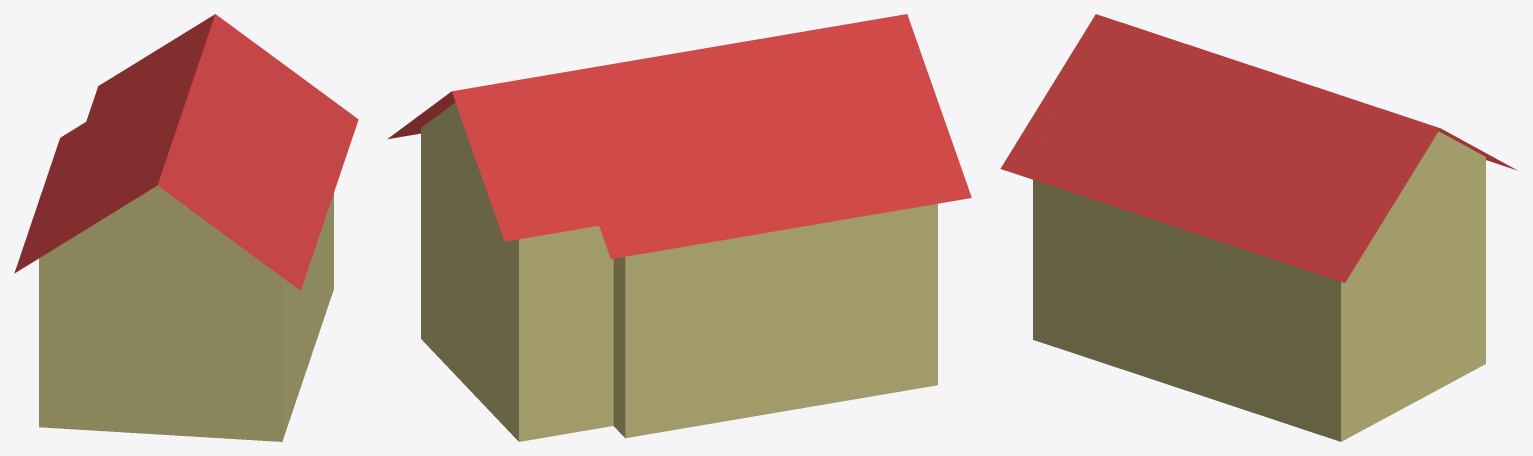
3 views of the same model, side by side, from view 1: azimuth 30°, elevation 25°; view 2: azimuth 150°, elevation 25°; view 3: azimuth 270°, elevation 25° (orthographic). The views are drawn at different scales.
Visible parts, largest first — view 1: group_5, group_3, group_4; view 2: group_5, group_3, group_4; view 3: group_5, group_3, group_4.
Boxes of the visible parts, x1,y1,x2,y2 form: group_5: (39, 185, 333, 441); group_3: (14, 14, 358, 289); group_4: (60, 14, 312, 290); group_5: (421, 102, 937, 441); group_3: (452, 14, 971, 258); group_4: (387, 14, 906, 258); group_5: (1033, 131, 1485, 441); group_3: (1001, 14, 1517, 282); group_4: (1000, 14, 1439, 211).
Size of the model in its own units: 22.14 by 22.33 by 13.12.
